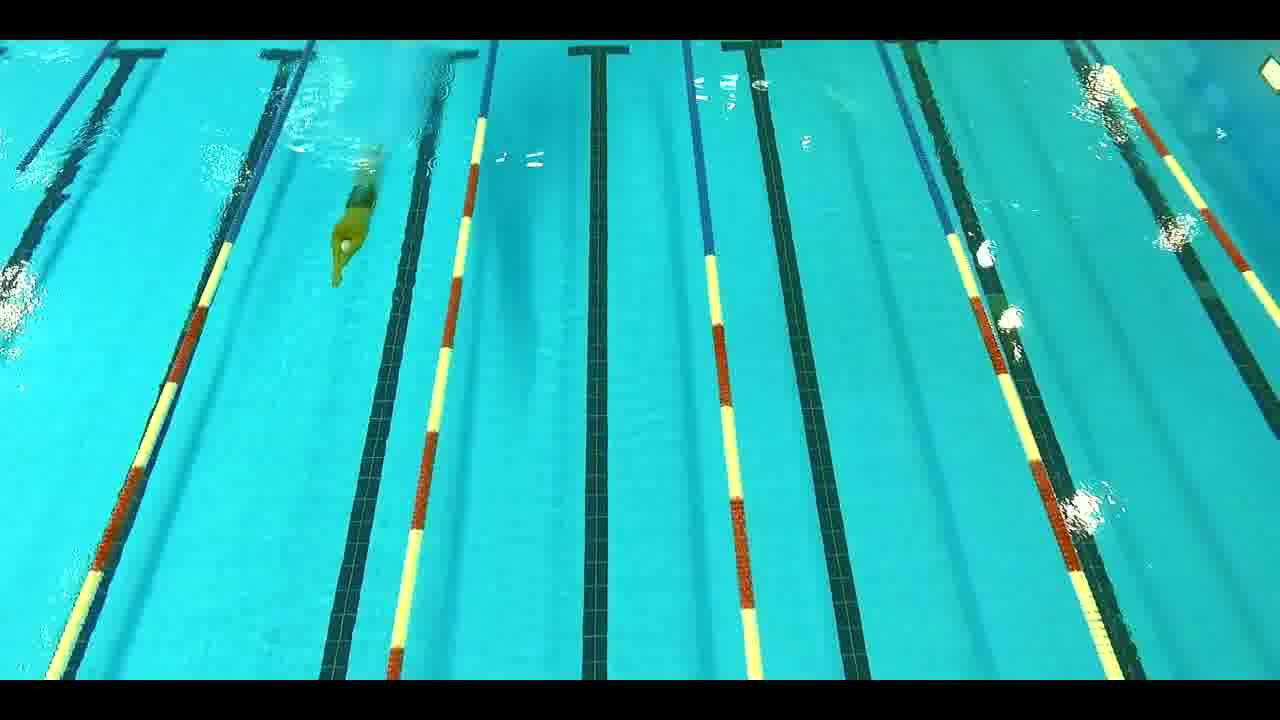human: (326, 142, 374, 291)
